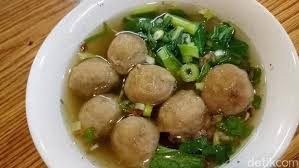bakso: (52, 33, 264, 165)
